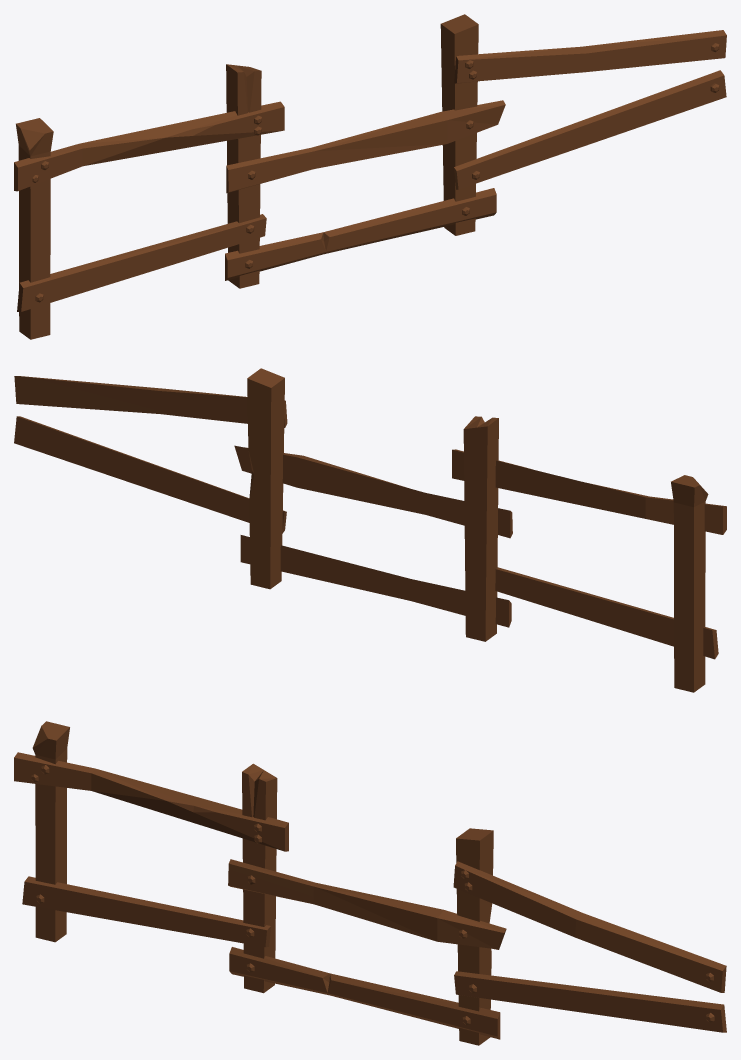
3 views of the same model, one above another, from view 1: azimuth 30°, elevation 25°; view 2: azimuth 150°, elevation 25°; view 3: azimuth 330°, elevation 25° (orthographic).
Parts seen in each view (by area): view 1: Fense_1; view 2: Fense_1; view 3: Fense_1.
Boxes of the visible parts, bbox=[...] form: Fense_1: bbox=[14, 14, 726, 339]; Fense_1: bbox=[14, 368, 726, 692]; Fense_1: bbox=[14, 721, 726, 1045].
Bounding box in the file's own units: 3.6 × 1.05 × 0.1734.
